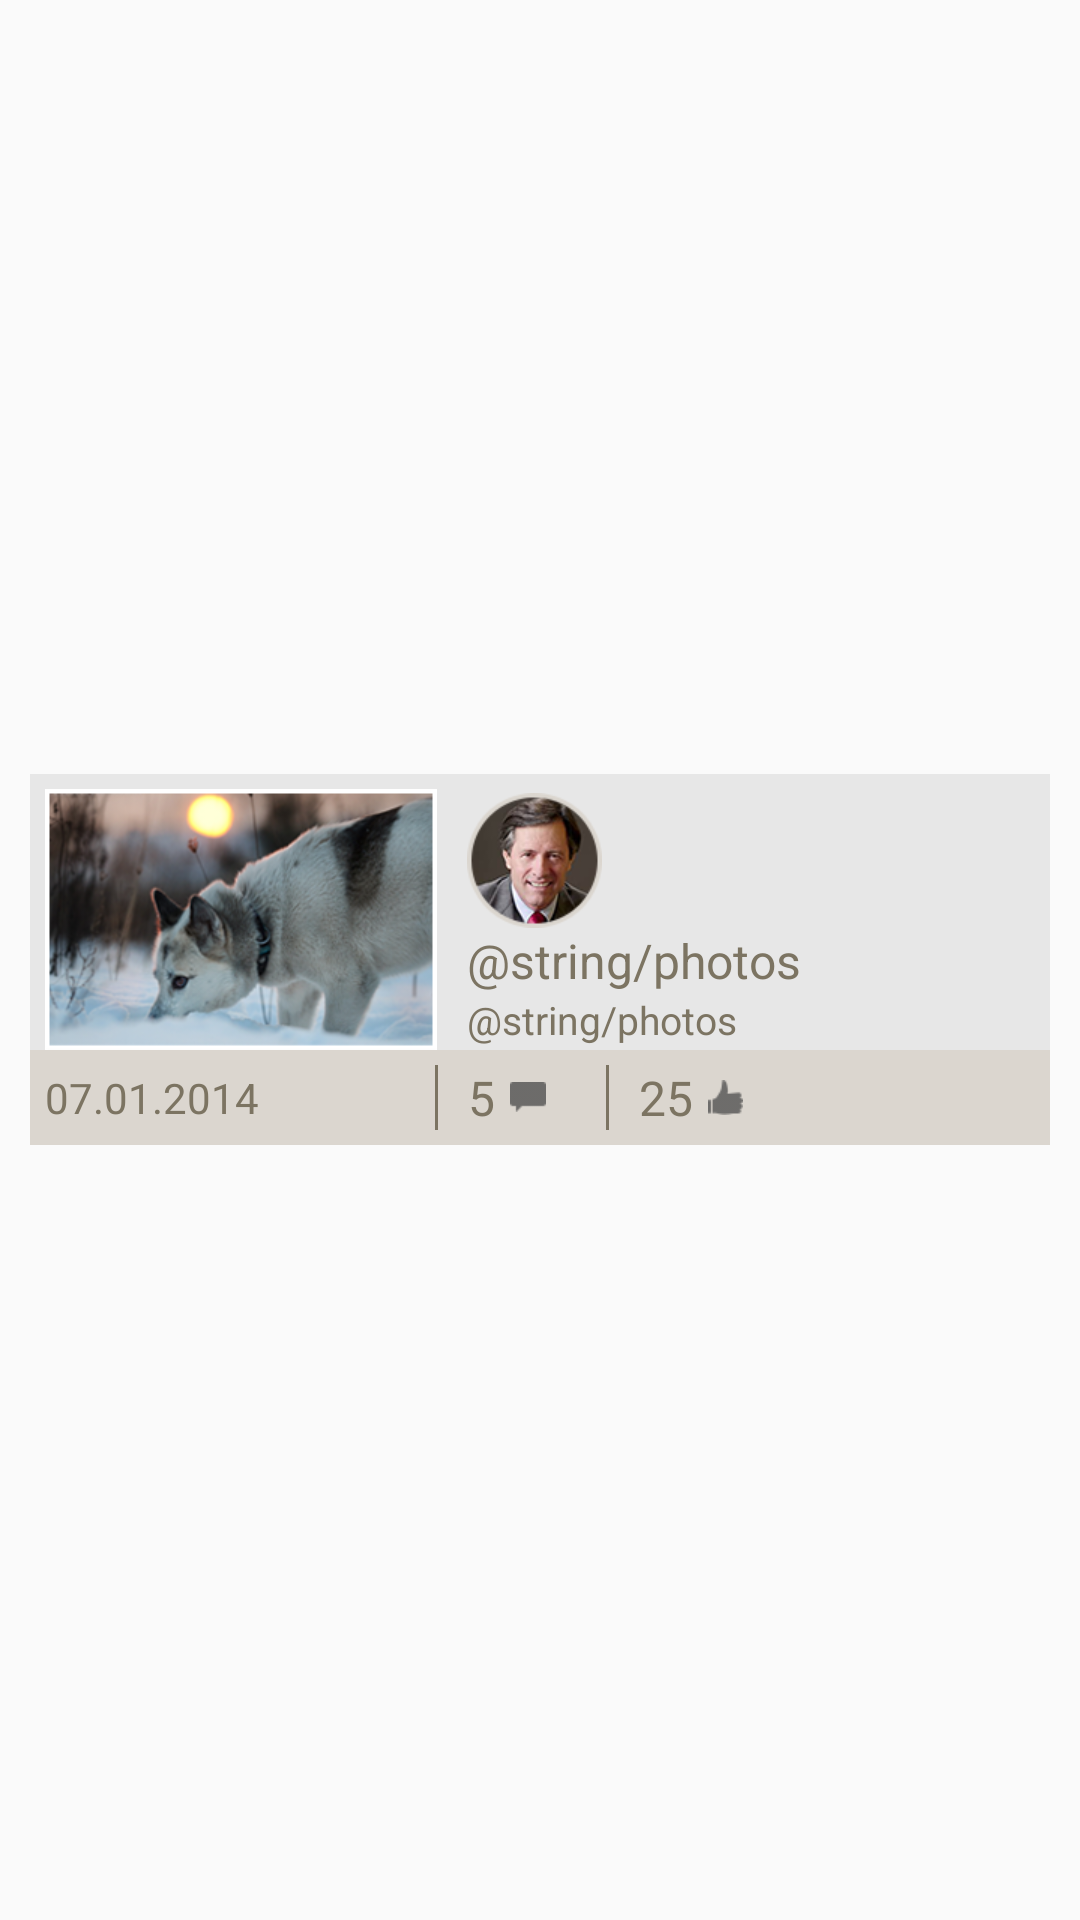

Where icons sit on this 1080 × 1920 app screen, as (x1, y1, x2, y2):
comment: (510, 1082, 546, 1112)
like: (708, 1080, 743, 1115)
user: (471, 797, 598, 924)
